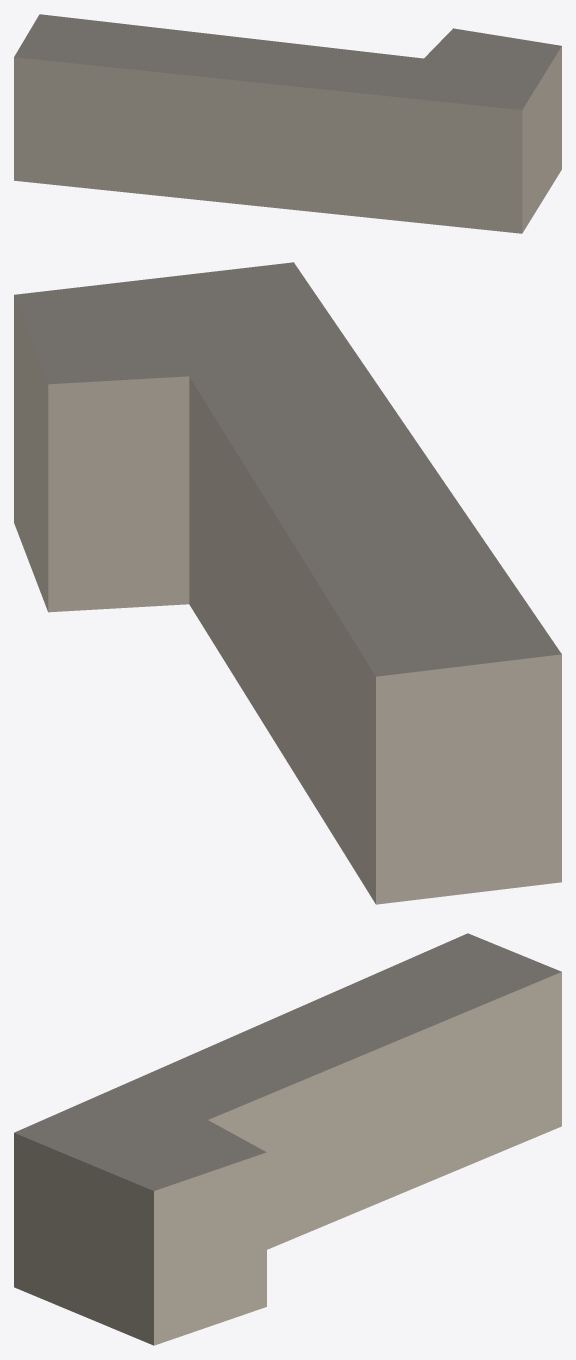
The picture shows the model from 3 angles, top to bottom: view 1: azimuth 30°, elevation 25°; view 2: azimuth 150°, elevation 25°; view 3: azimuth 270°, elevation 25°; orthographic projection. The views are drawn at different scales.
Parts seen in each view (by area): view 1: HP-w765568187; view 2: HP-w765568187; view 3: HP-w765568187.
Part boxes in pixels (x1,y1,x2,y2): HP-w765568187: (14,14,561,233); HP-w765568187: (14,262,561,904); HP-w765568187: (14,933,561,1345).
Size of the model in its own units: 64.4 by 18 by 57.83.
